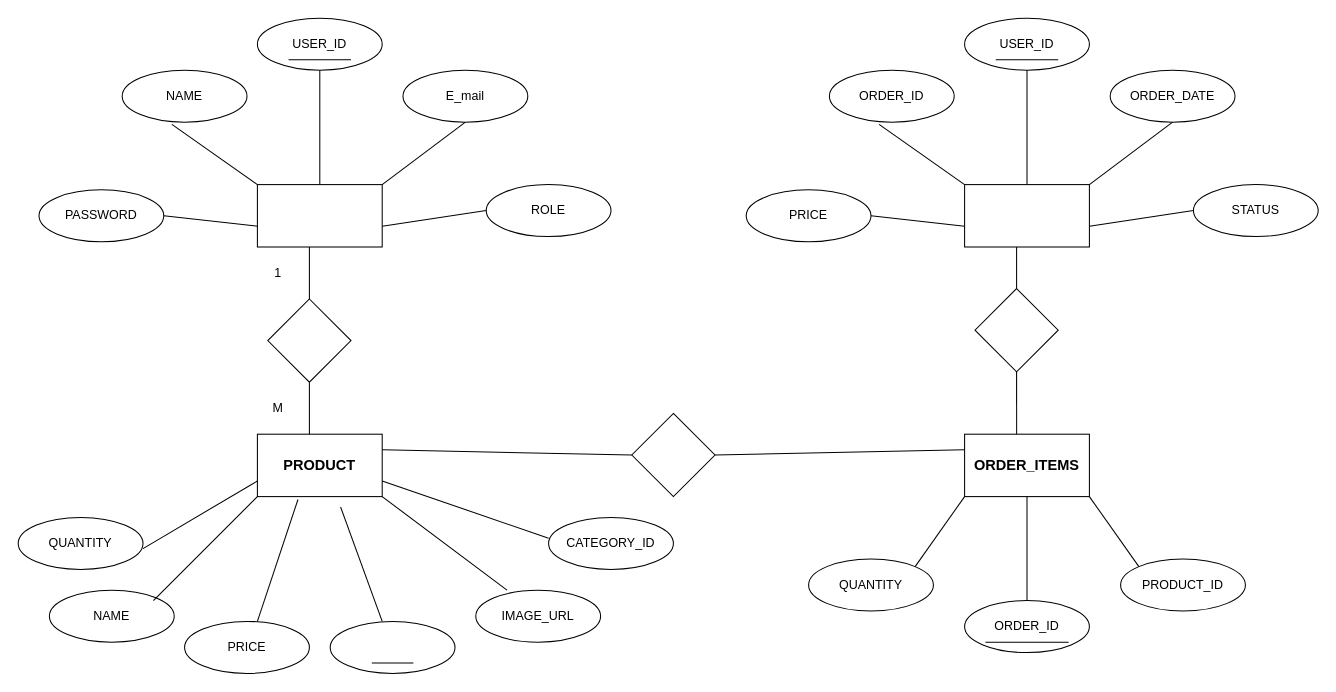
This 1336x692 diagram has some shape labels left out. The centre of each missing label's shape, as x and y in pixels:
CONTAINS: point 1016,330
ID: point 392,646
INCLUDE: point 673,454
MAKES: point 309,340
ORDER: point 1026,215
USER: point 319,215
